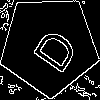D: (24, 20, 80, 76)
